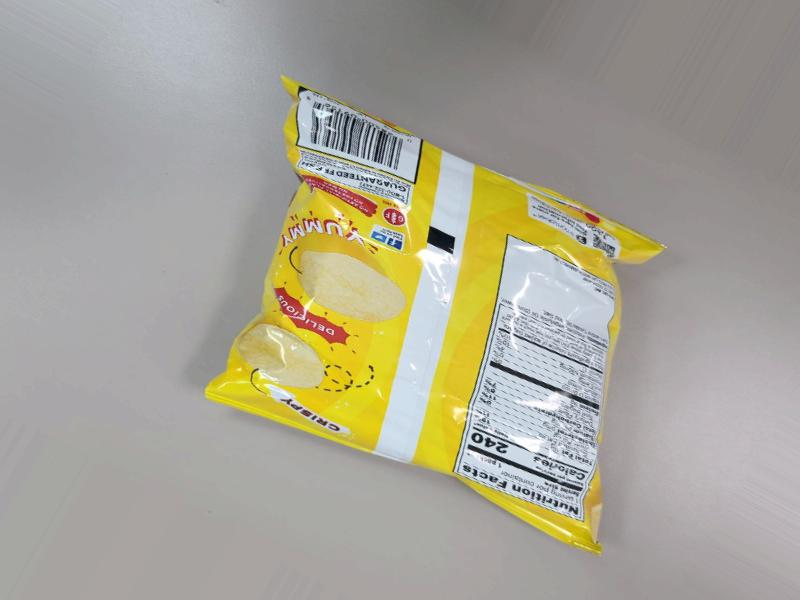lays: (276, 70, 678, 600)
